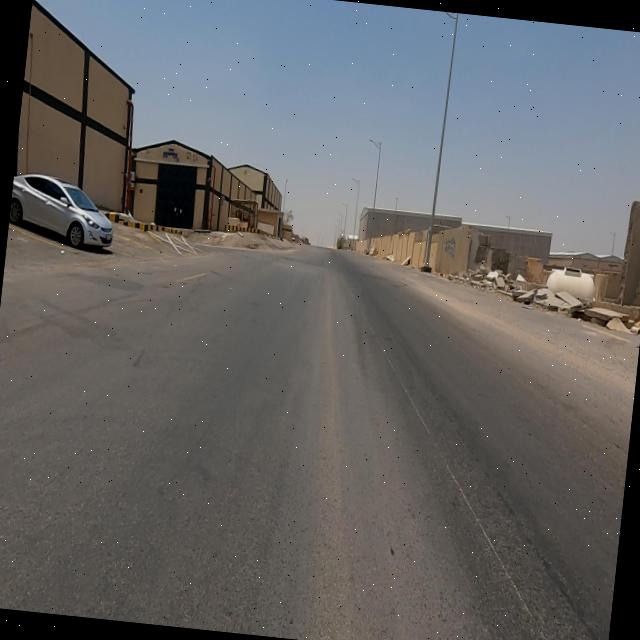Graffiti: (444, 236, 458, 257)
